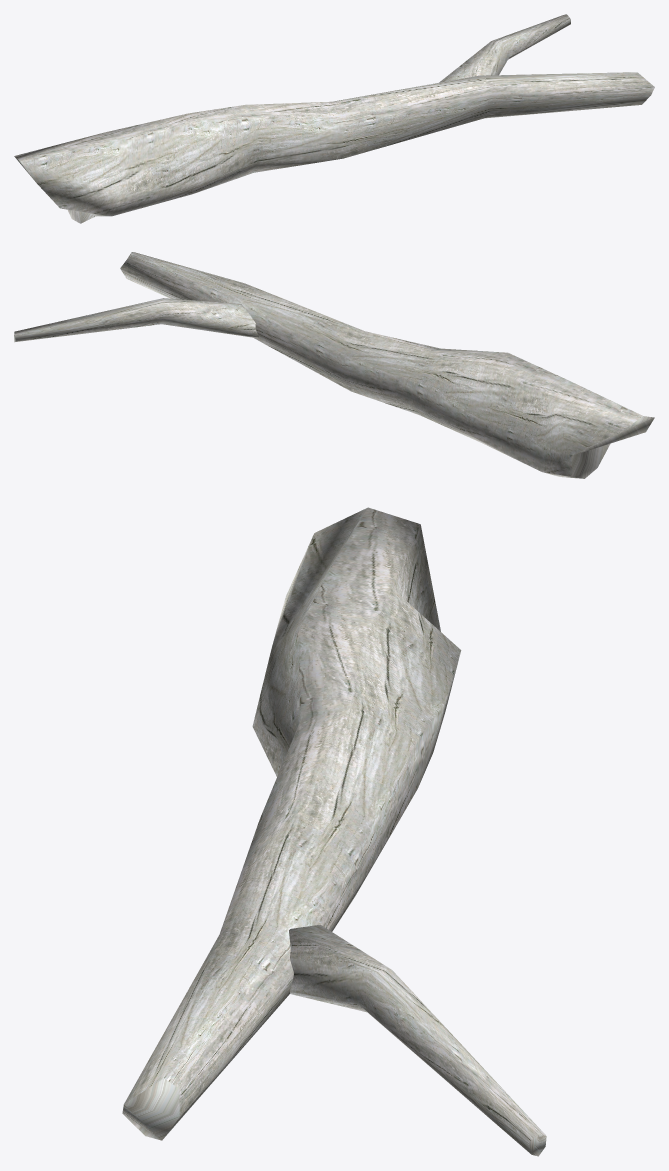
The model's file is shor_driftwood_a2_l0.fbx.
3 renders of one model, top to bottom at view 1: azimuth 30°, elevation 25°; view 2: azimuth 150°, elevation 25°; view 3: azimuth 270°, elevation 25°, orthographic. The views are drawn at different scales.
Visible parts, largest first — view 1: mesh_node; view 2: mesh_node; view 3: mesh_node.
Boxes of the visible parts, x1,y1,x2,y2 form: mesh_node: (14,14,654,223); mesh_node: (14,252,654,478); mesh_node: (122,507,546,1156).
Size of the model in its own units: 2.78 by 0.4067 by 0.8662.
